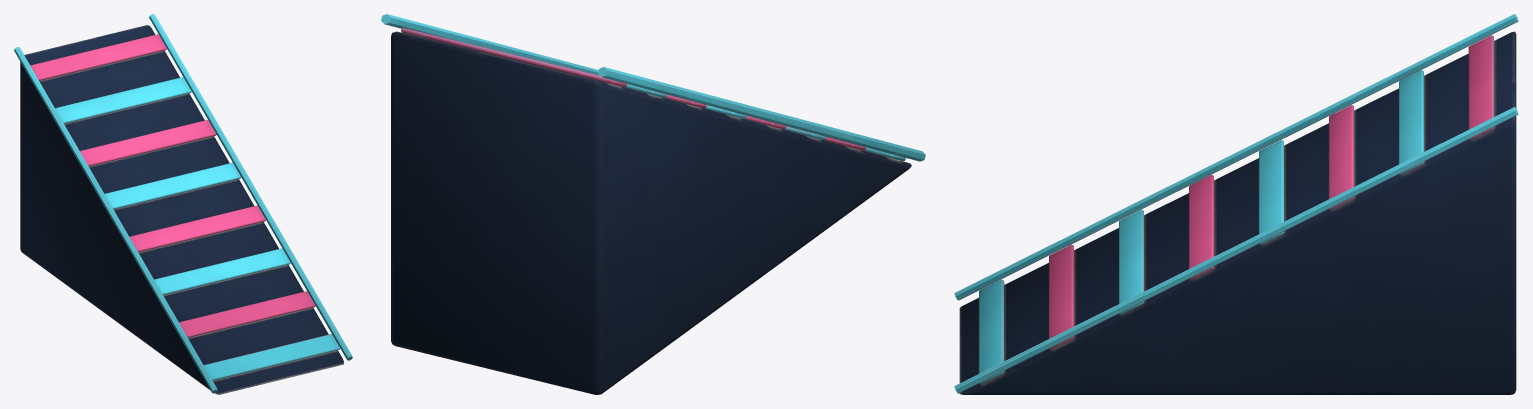
Rendered from mu_ramp.glb.
3 renders of one model, left to right at view 1: azimuth 30°, elevation 25°; view 2: azimuth 150°, elevation 25°; view 3: azimuth 270°, elevation 25°, orthographic. The views are drawn at different scales.
Visible parts, largest first — view 1: mu_ramp; view 2: mu_ramp; view 3: mu_ramp.
Boxes of the visible parts, left/top/right/bottom form: mu_ramp: left=14, top=14, right=352, bottom=394; mu_ramp: left=381, top=14, right=925, bottom=394; mu_ramp: left=954, top=14, right=1518, bottom=394.
Size of the model in its own units: 2.45 by 3.44 by 6.05.
3 materials, 3 textured.
